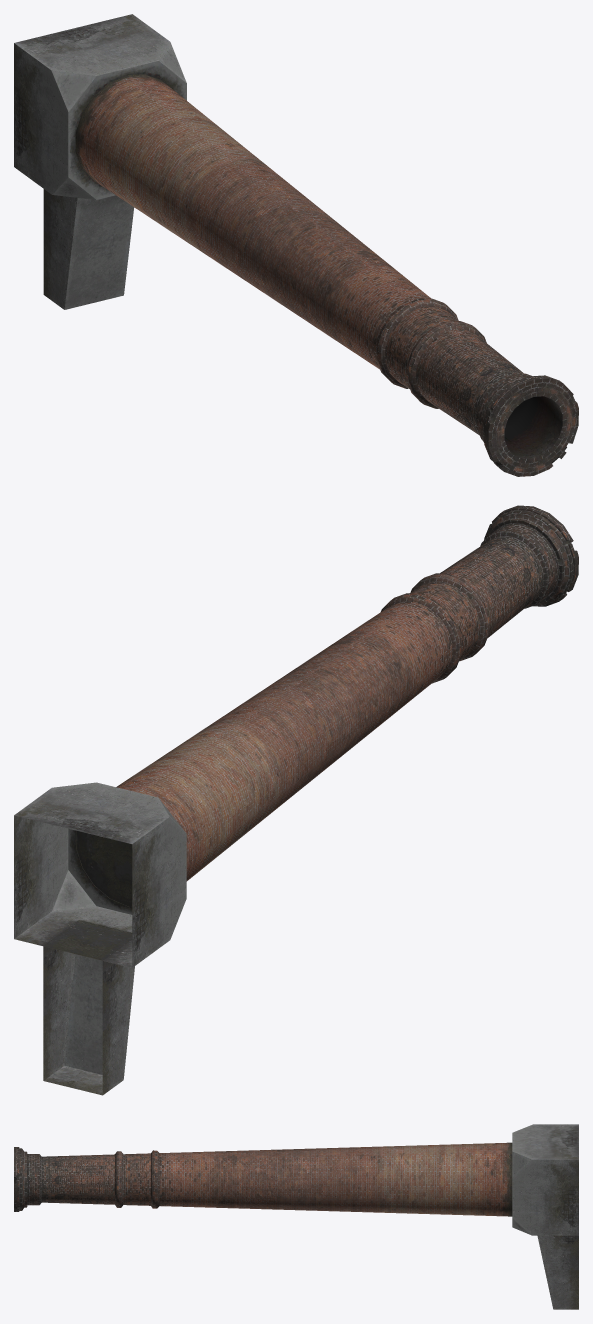
Rendered from hd_env431_FactoryPipe.glb.
3 views of the same model, one above another, from view 1: azimuth 30°, elevation 25°; view 2: azimuth 150°, elevation 25°; view 3: azimuth 270°, elevation 25° (orthographic). The views are drawn at different scales.
Parts seen in each view (by area): view 1: set_0_group_0; view 2: set_0_group_0; view 3: set_0_group_0.
Part boxes in pixels (<box>): set_0_group_0: <box>14,14,578,476</box>; set_0_group_0: <box>14,505,578,1095</box>; set_0_group_0: <box>14,1124,578,1309</box>.
Bounding box in the file's own units: 2.52 × 5.26 × 16.99.
Materials: 1 (1 with a texture image).
